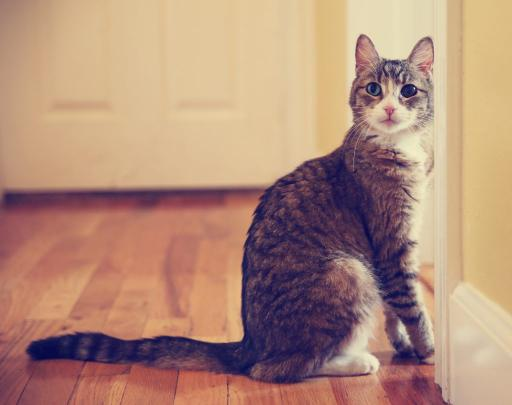cat_sitting: (27, 34, 434, 382)
